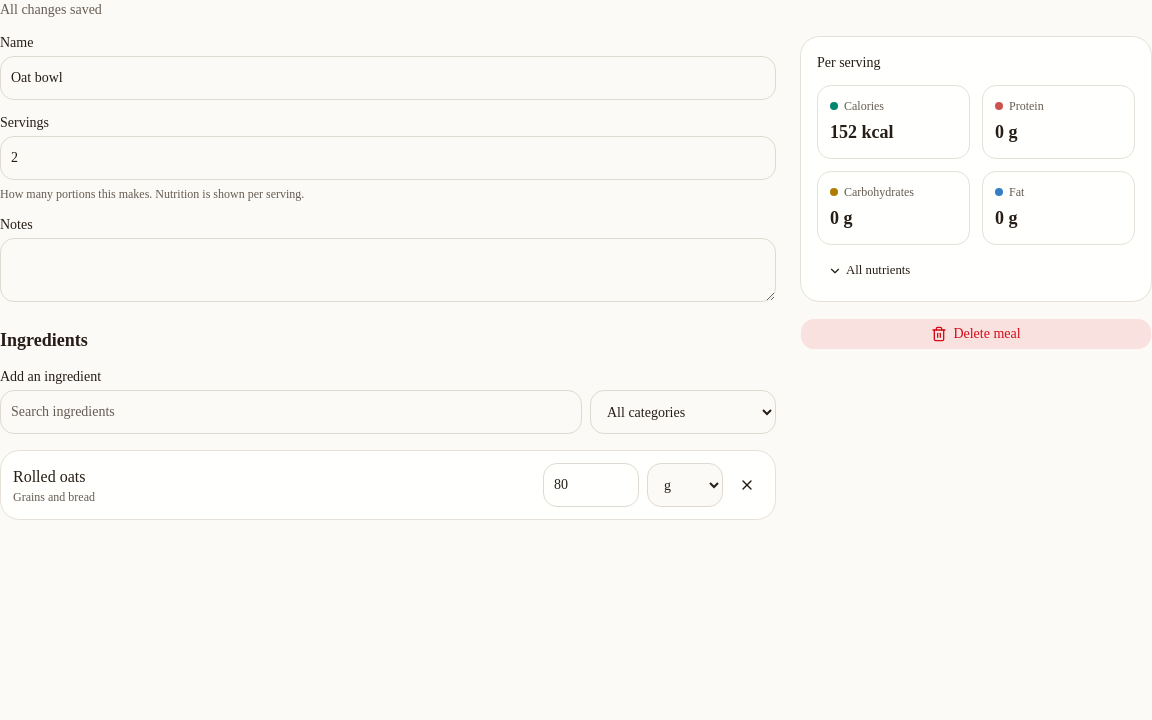
Scenario: MealEditor › says where to remove a meal that a plan or template still uses, and stays put
Step 1. Click the button "Delete meal" → (976, 334), box [800, 318, 1151, 350]
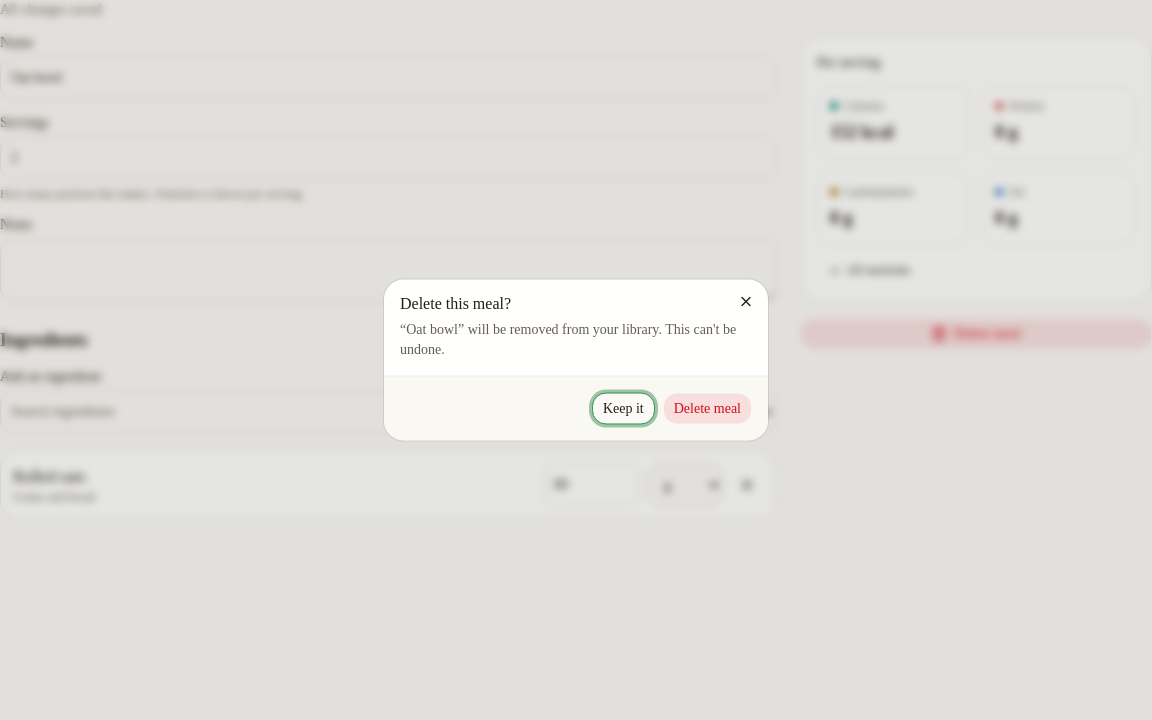
Step 2. Click the button "Delete meal" → (707, 408), box [663, 392, 752, 424]
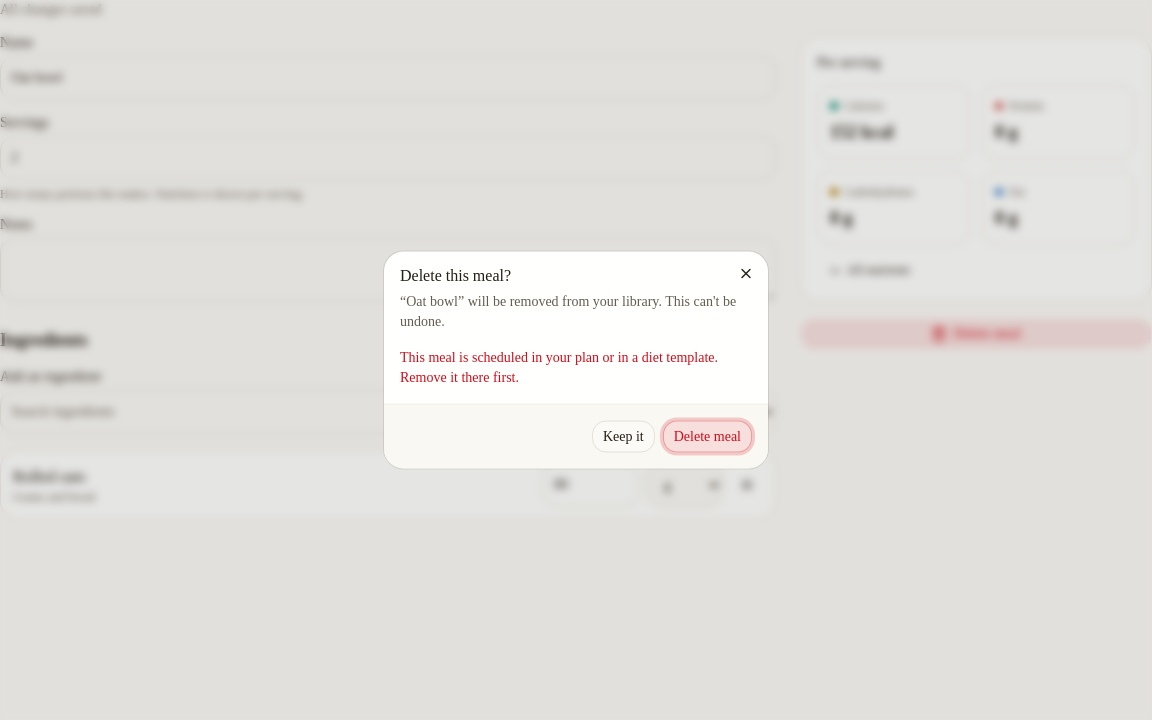
Expected: the dialog "Delete this meal?" is shown, [384, 252, 768, 468]
Expected: the text "scheduled in your plan or in a diet template" is shown, [400, 350, 718, 384]
